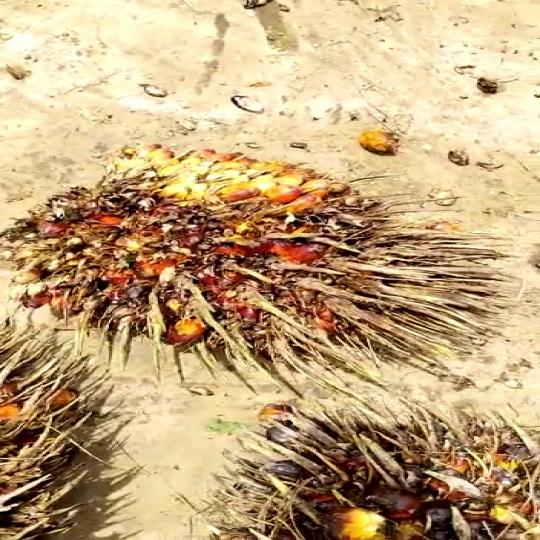terlalu masak: (1, 131, 540, 383)
